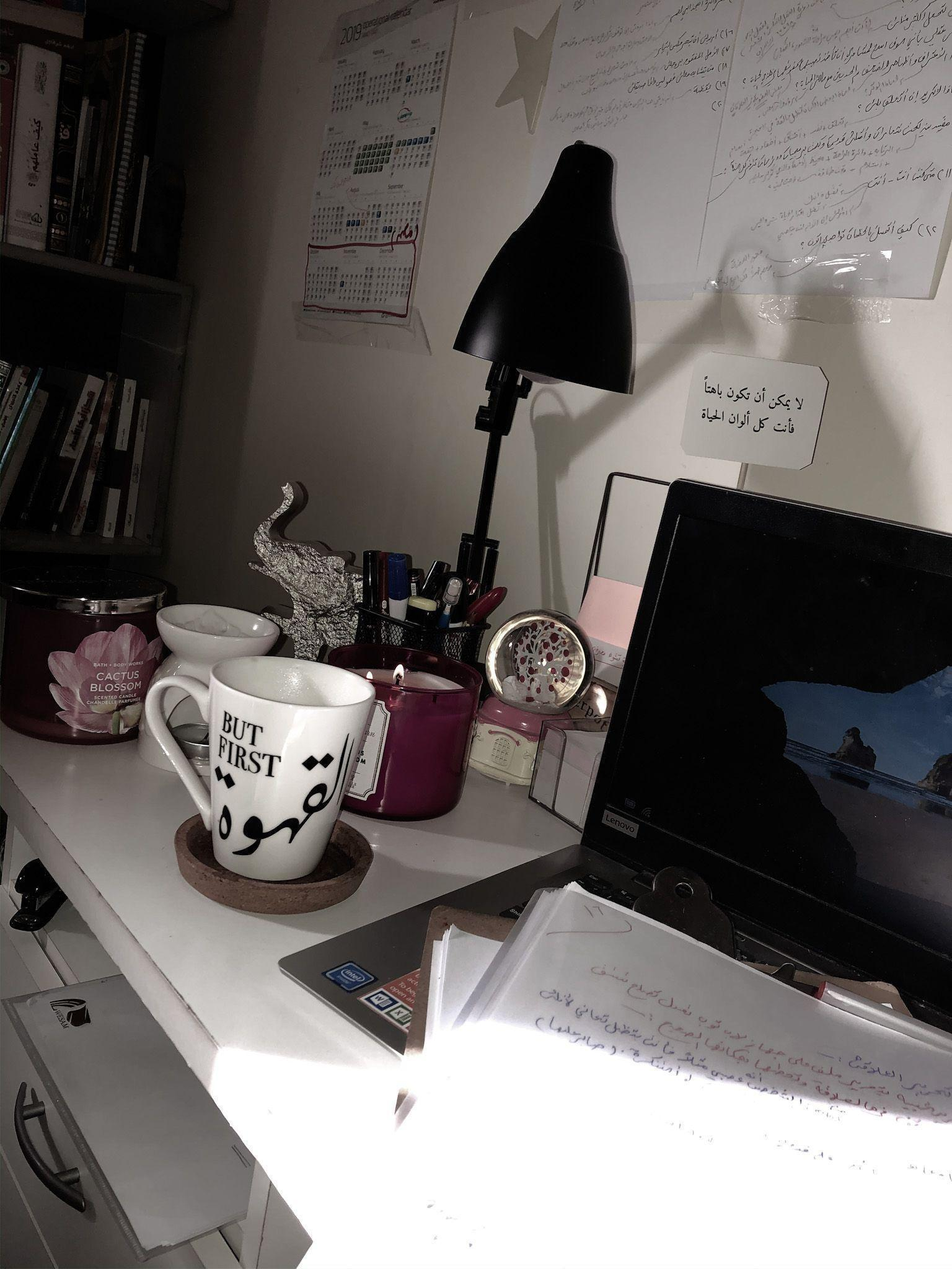cup-handle: (143, 652, 374, 882)
